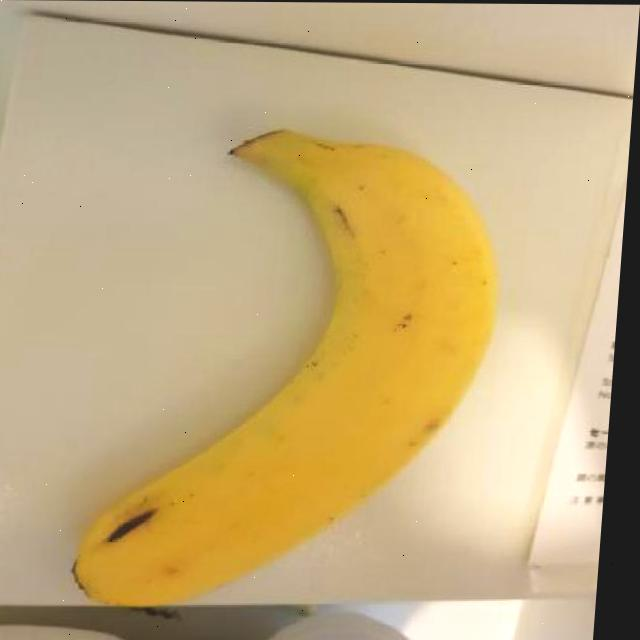banana: (53, 119, 517, 608)
